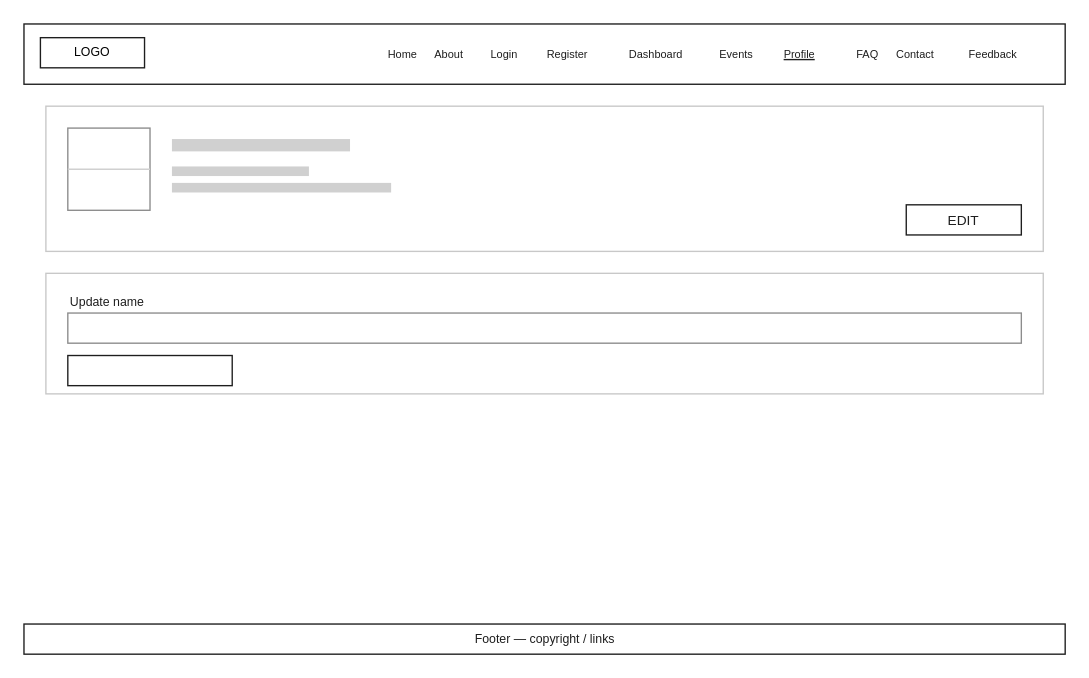
This 1089x678 diagram has some shape labels left out. Here are the shapes that lost their labels. From the top down, the centre of each, then its label:
(108,168): PHOTO
(149,370): SAVE CHANGES
